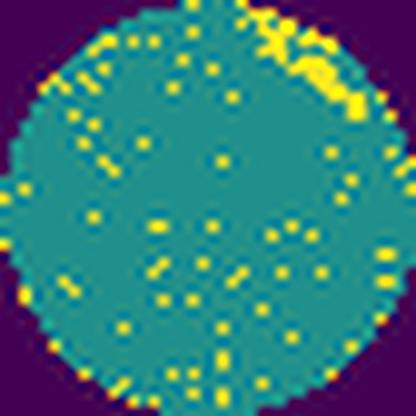Loc: (245, 8, 372, 123)
